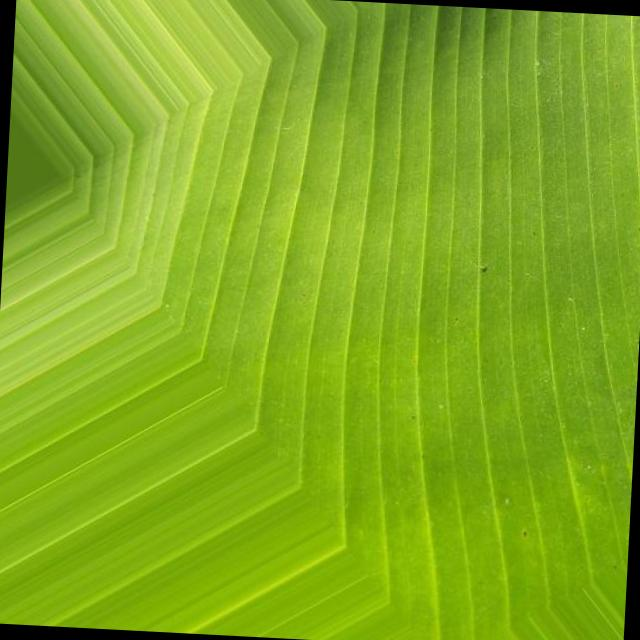Banana_Healthy: (228, 93, 608, 458)
